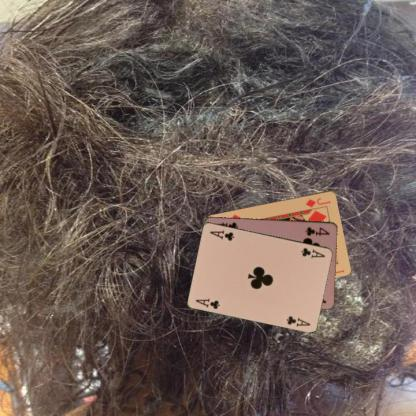4c: (303, 224, 331, 237)
Ac: (193, 296, 221, 310), (299, 245, 326, 259)
Jd: (303, 195, 332, 208)
